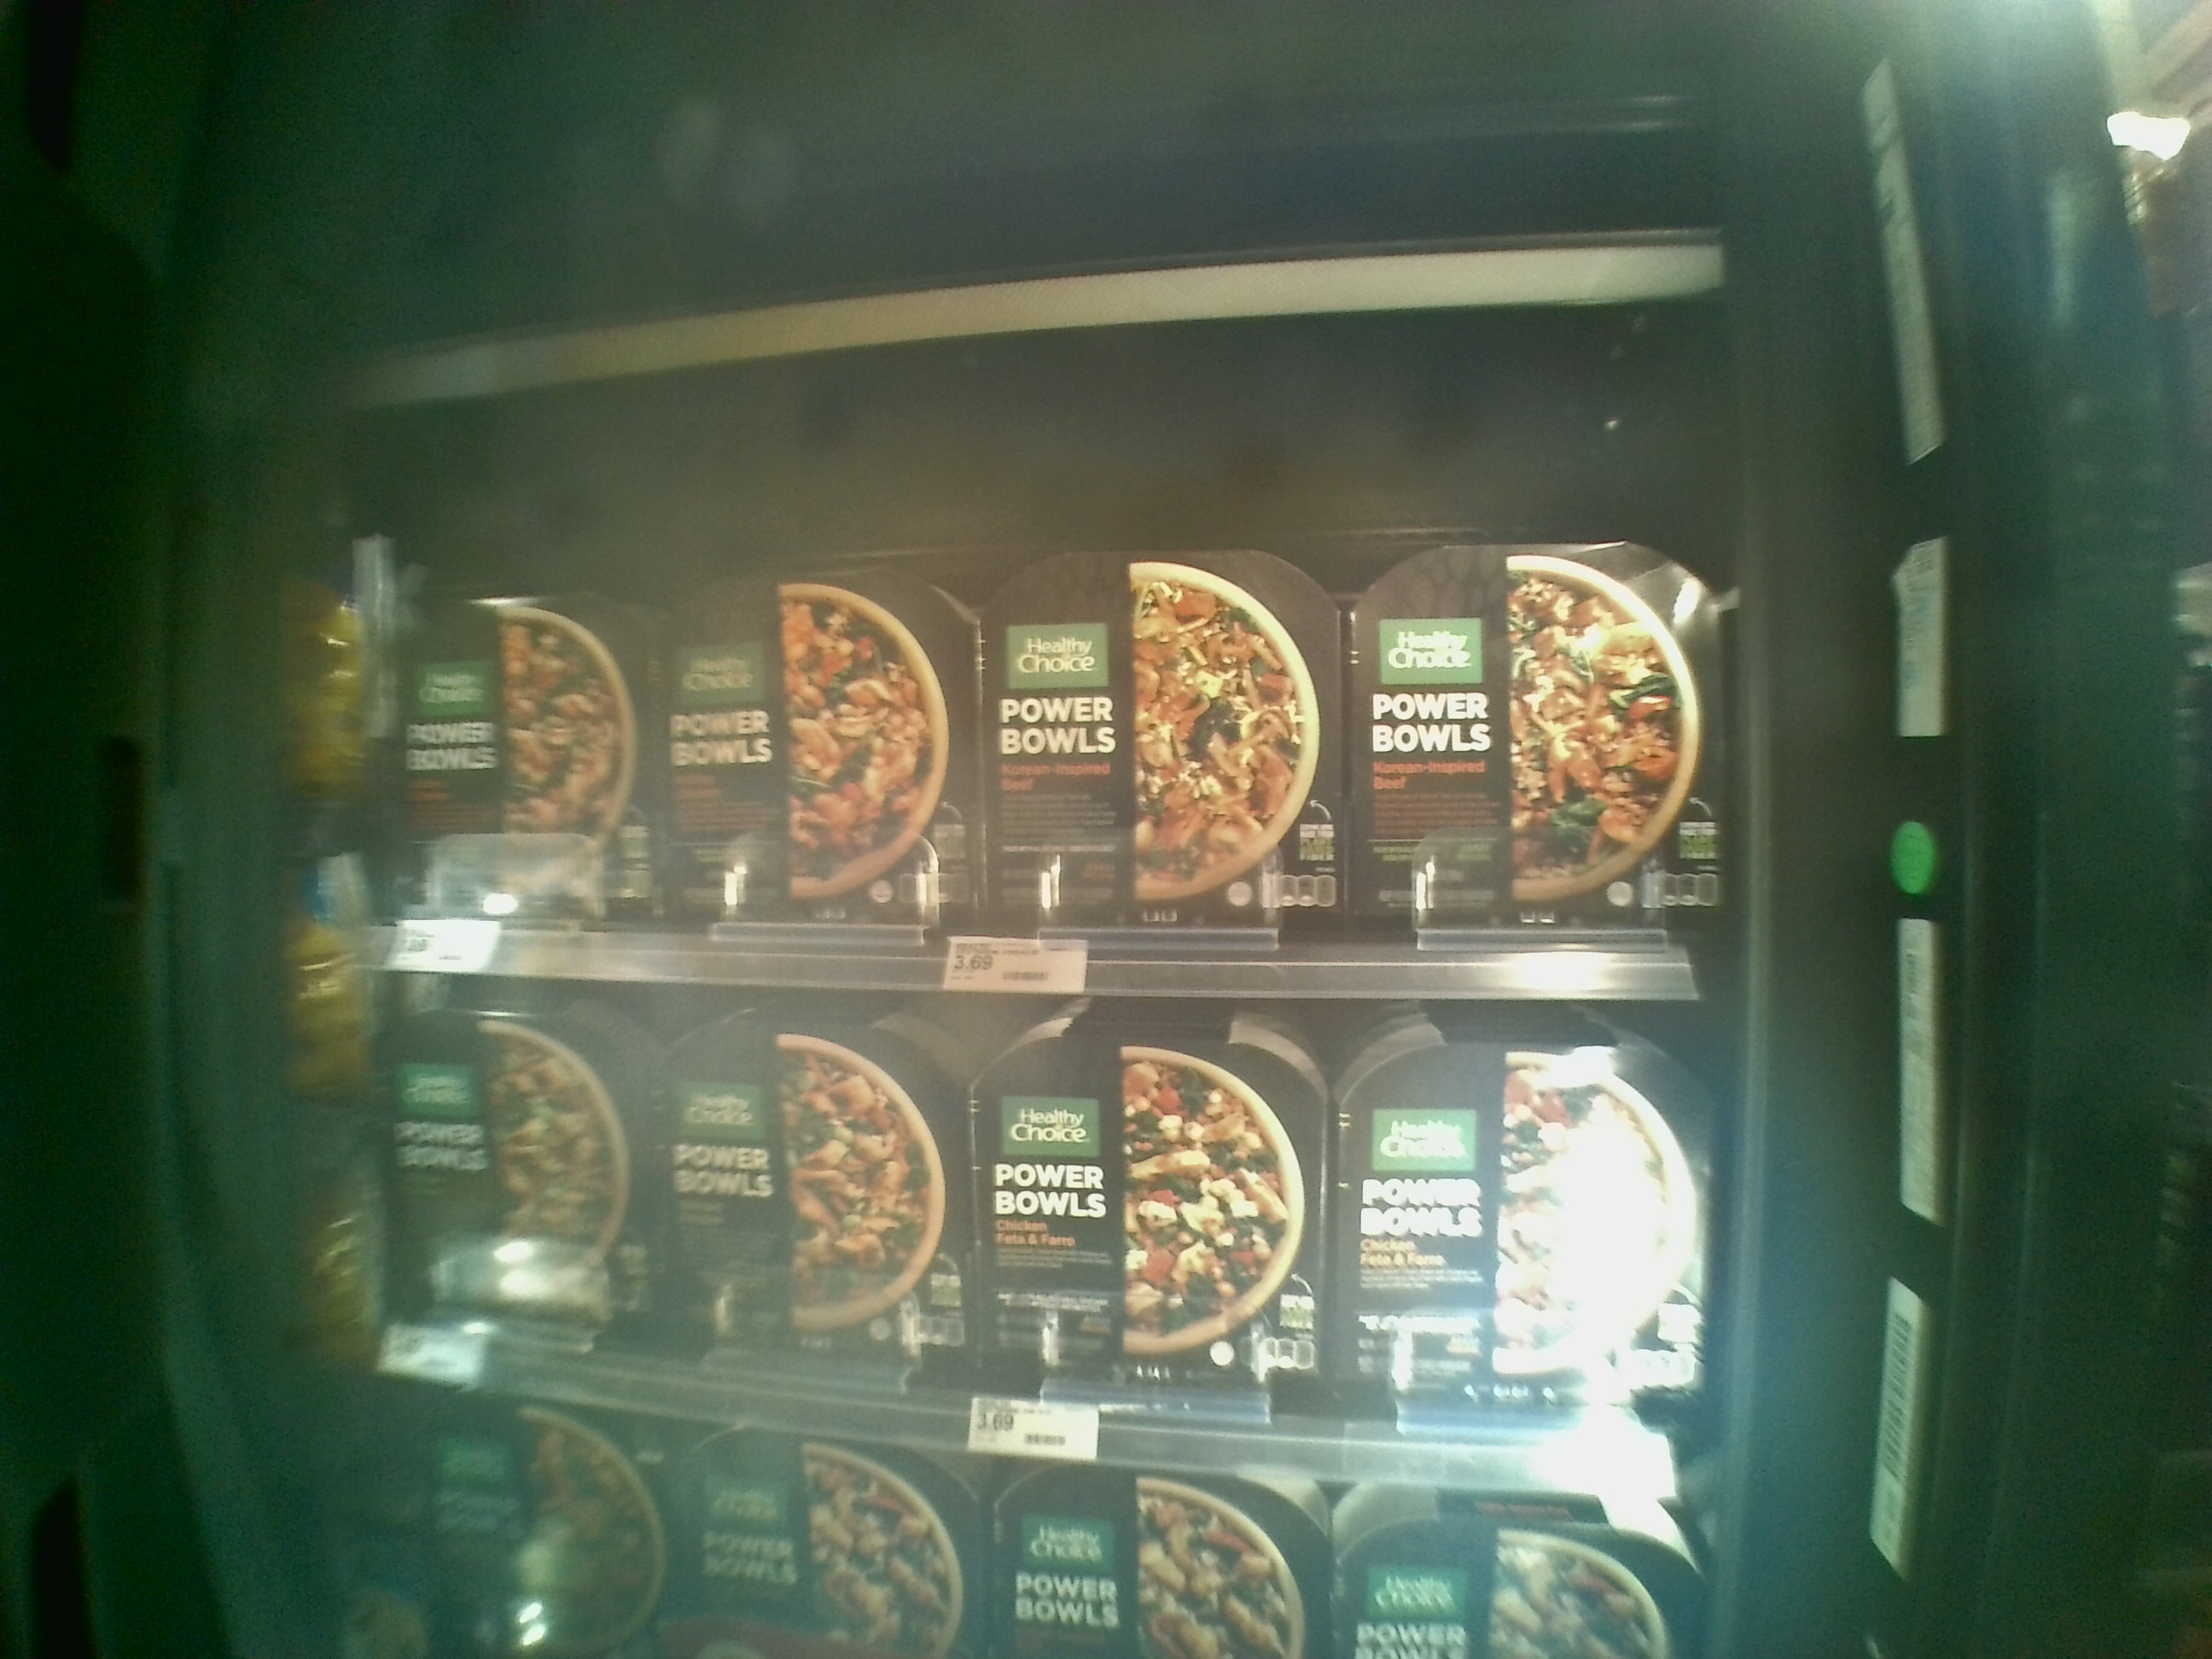shelf: (270, 403, 1724, 974)
